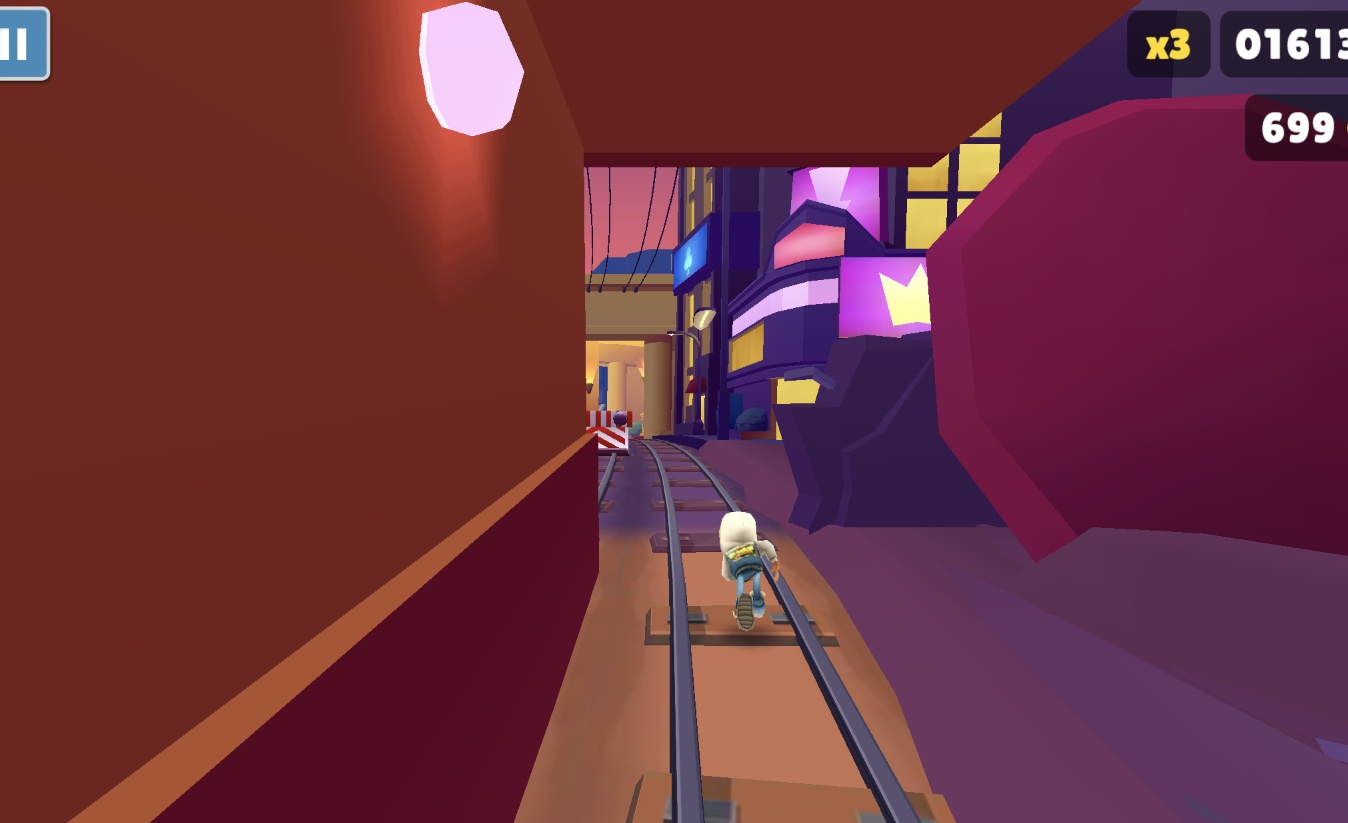ground_barrier: (583, 410, 630, 456)
pillar: (0, 0, 596, 823)
